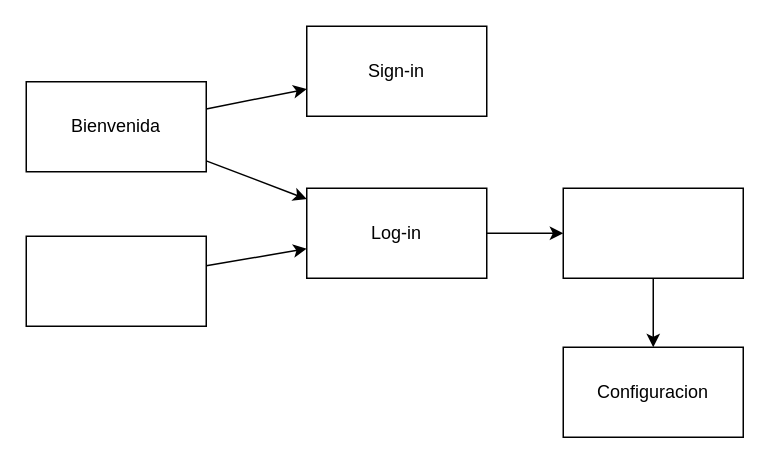
This 770x464 diagram has some shape labels left out. The shapes that lost their labels are listed below. From the top down, each one's centre as x and y in pixels, then its label:
At (x=652, y=232): "Dashboard".
At (x=115, y=280): "Verificacion de correo".
